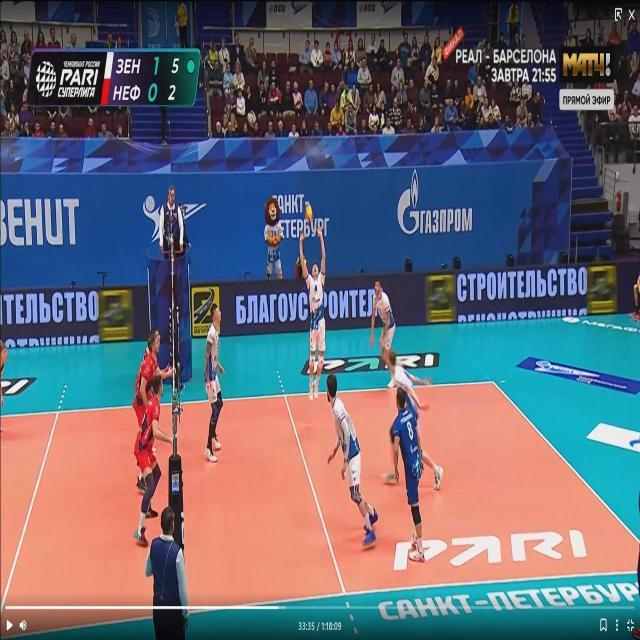volleyball: (304, 204, 312, 220)
